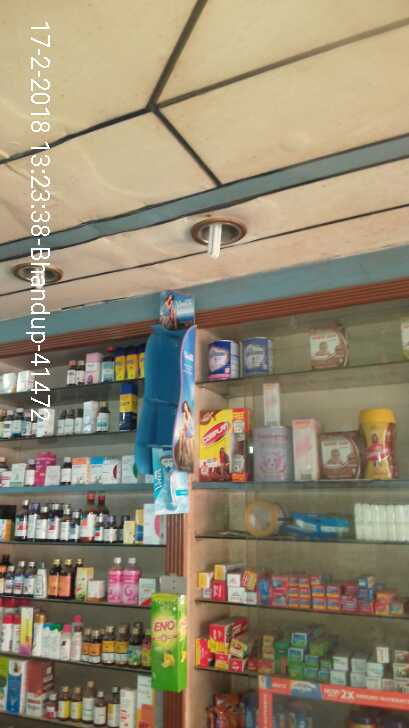venus: (149, 446, 195, 515)
